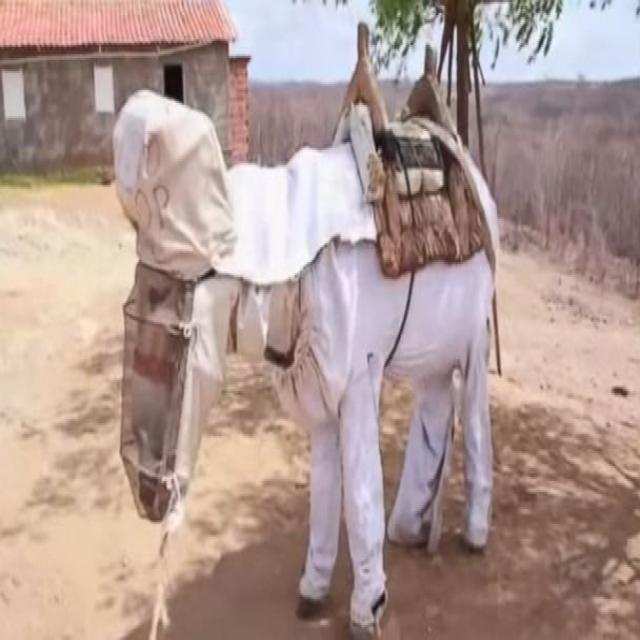donkey: (101, 86, 510, 589)
